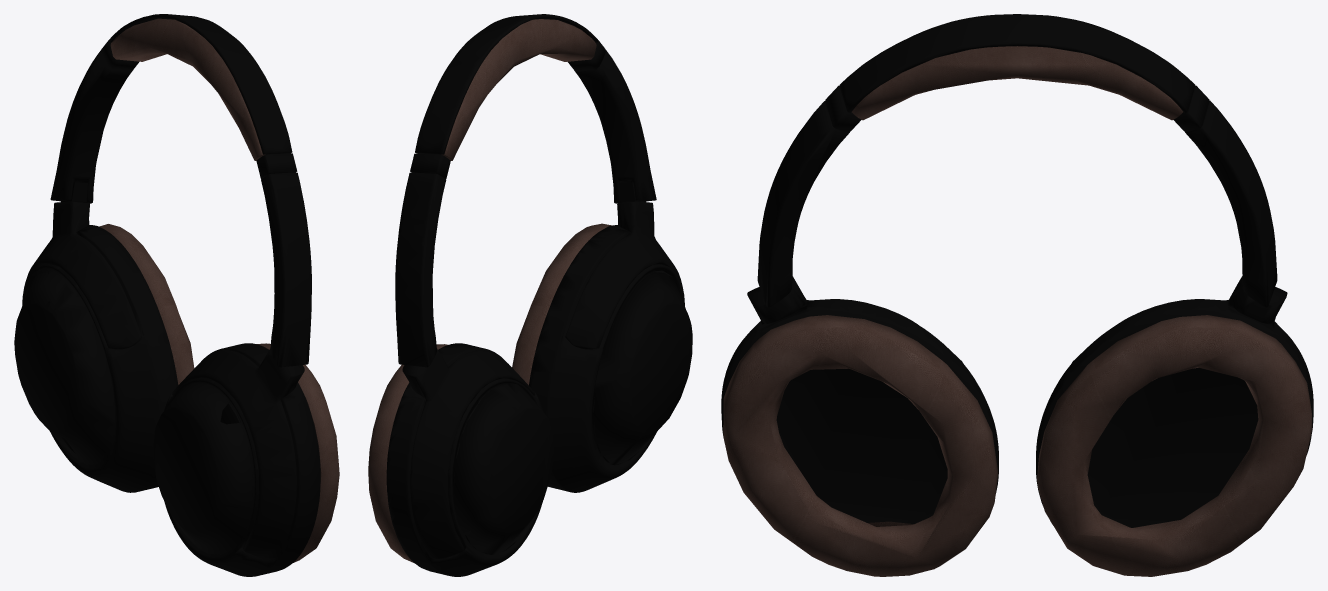
File: headphonesXM4.glb
The picture shows the model from 3 angles, left to right: view 1: azimuth 30°, elevation 25°; view 2: azimuth 150°, elevation 25°; view 3: azimuth 270°, elevation 25°; orthographic projection. The views are drawn at different scales.
Parts seen in each view (by area): view 1: object 1, plushy thingy v.001_Leather_0; view 2: object 1, plushy thingy v.001_Leather_0; view 3: plushy thingy v.001_Leather_0, object 1, touchpaddd v.003_Rough cloth_0.
Part boxes in pixels (bbox=[...]): object 1: bbox=[14, 14, 320, 576]; plushy thingy v.001_Leather_0: bbox=[99, 18, 339, 562]; object 1: bbox=[386, 14, 692, 576]; plushy thingy v.001_Leather_0: bbox=[368, 19, 612, 563]; plushy thingy v.001_Leather_0: bbox=[723, 46, 1312, 576]; object 1: bbox=[721, 14, 1313, 524]; touchpaddd v.003_Rough cloth_0: bbox=[776, 368, 1258, 527].
Bounding box in the file's own units: 0.3816 × 1.6 × 1.53.
Materials: 3 (1 with a texture image).
